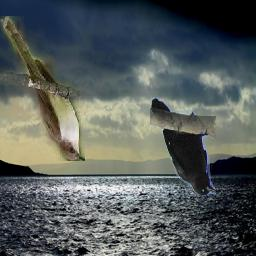Crow: (150, 97, 216, 195)
Cuckoo: (0, 17, 85, 162)
